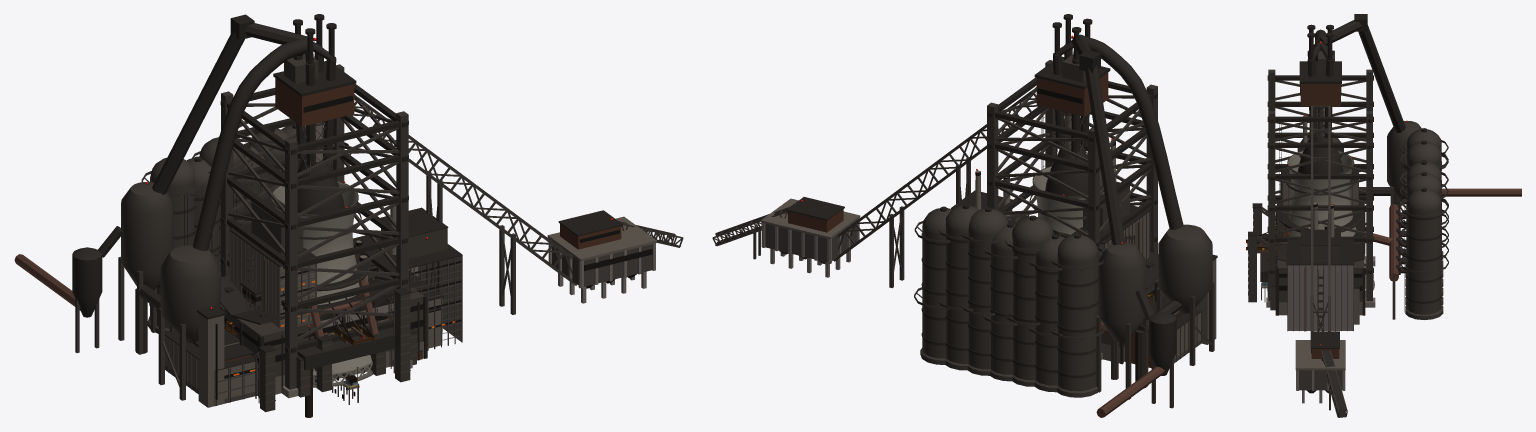
The model's file is SM_Arena_Kit.fbx.
The picture shows the model from 3 angles, left to right: view 1: azimuth 30°, elevation 25°; view 2: azimuth 150°, elevation 25°; view 3: azimuth 270°, elevation 25°; orthographic projection. The views are drawn at different scales.
Visible parts, largest first — view 1: K_ff_core, K_ff_dcB, K_ff_cast, K_ff_skip, K_ff_dcA, K_far_block4, K_far_block5, K_ff_st4, K_cooling, K_ff_st3, K_far_block2, K_far_block0; view 2: K_ff_core, K_ff_st4, K_ff_dcB, K_ff_st3, K_ff_skip, K_ff_dcA, K_ff_cast, K_far_block5, K_far_block4, K_cooling; view 3: K_ff_core, K_ff_st4, K_far_block4, K_ff_skip, K_ff_dcB, K_cooling, K_ff_cast, K_ff_st3, K_far_block5, K_ff_dcA.
Boxes of the visible parts, x1,y1,x2,y2 form: K_ff_core: (220, 14, 412, 398); K_ff_dcB: (14, 14, 307, 354); K_ff_cast: (192, 261, 443, 407); K_ff_skip: (347, 94, 683, 331); K_ff_dcA: (135, 37, 307, 400); K_far_block4: (165, 196, 462, 412); K_far_block5: (229, 197, 411, 382); K_ff_st4: (141, 127, 351, 333); K_cooling: (271, 181, 373, 387); K_ff_st3: (187, 124, 305, 275); K_far_block2: (315, 334, 332, 392); K_far_block0: (296, 240, 368, 397); K_ff_core: (987, 14, 1157, 359); K_ff_st4: (914, 206, 1114, 397); K_ff_dcB: (1071, 36, 1176, 417); K_ff_st3: (938, 204, 1064, 392); K_ff_skip: (712, 87, 1042, 288); K_ff_dcA: (1079, 34, 1214, 388); K_ff_cast: (1101, 252, 1217, 368); K_far_block5: (1071, 138, 1150, 260); K_far_block4: (951, 169, 1201, 363); K_cooling: (1032, 166, 1104, 234); K_ff_core: (1266, 24, 1375, 307); K_ff_st4: (1364, 128, 1448, 319); K_far_block4: (1252, 202, 1354, 331); K_ff_skip: (1295, 105, 1347, 417); K_ff_dcB: (1319, 14, 1521, 204); K_cooling: (1267, 150, 1374, 297); K_ff_cast: (1260, 172, 1365, 324); K_ff_st3: (1389, 155, 1448, 305); K_far_block5: (1248, 114, 1362, 302); K_ff_dcA: (1300, 29, 1400, 210).
Bounding box in the file's own units: 511 × 319 × 288.
